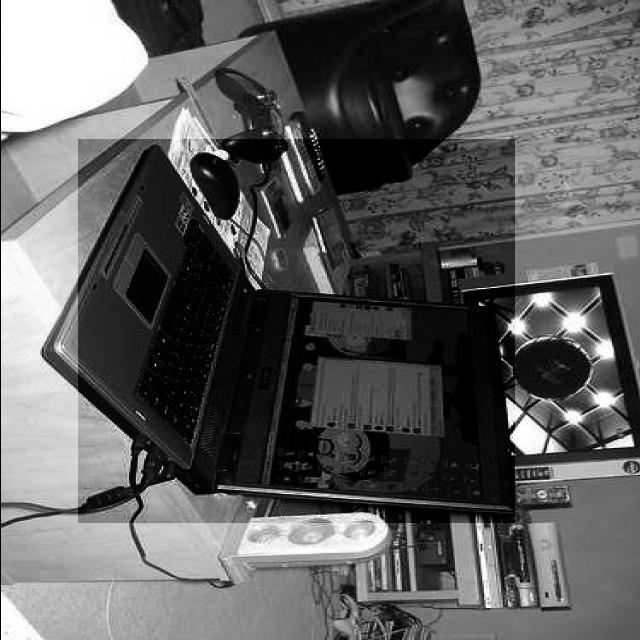-keyboard-: (78, 139, 515, 523)
